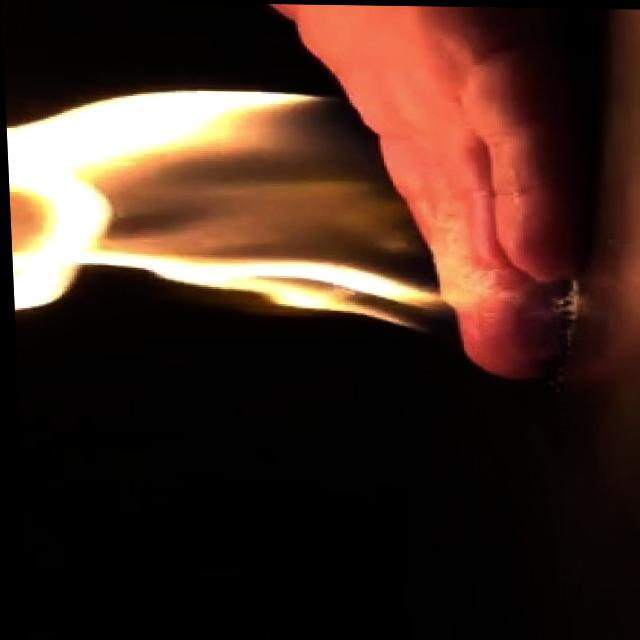Fire: (3, 76, 449, 341)
